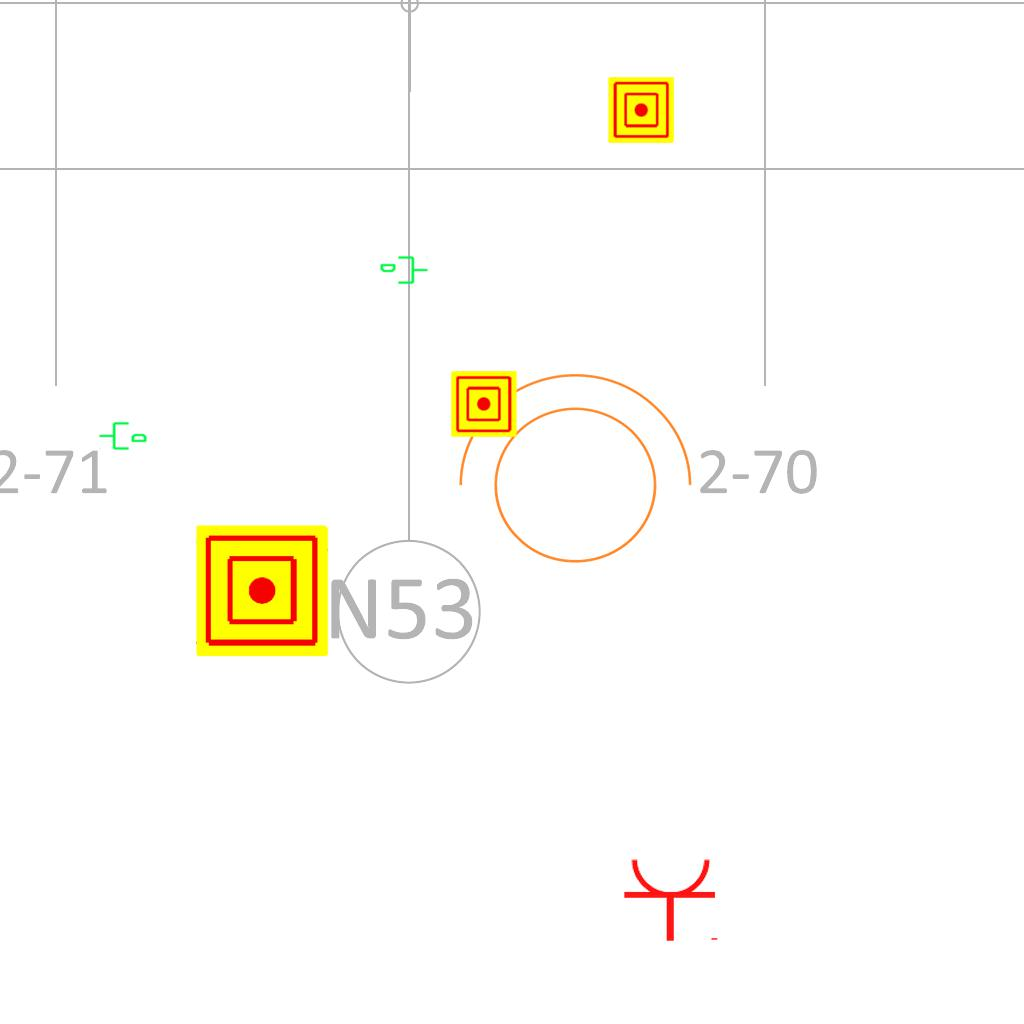Datenanschluss_einfach: (98, 418, 148, 452), (379, 254, 429, 288)
NAM-Nichtautomatischer_Melder: (196, 525, 328, 657), (608, 77, 674, 143), (451, 371, 517, 437)
Scheinwerfer_fuer_Alarmbeleuchtung: (437, 363, 701, 588)
Schukosteckdose_einfach: (622, 856, 722, 943)
